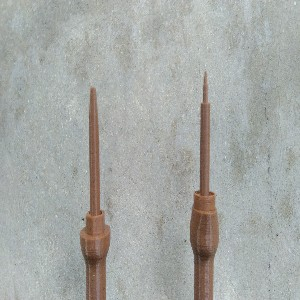obeng: (79, 86, 112, 300)
solder: (189, 70, 220, 300)
